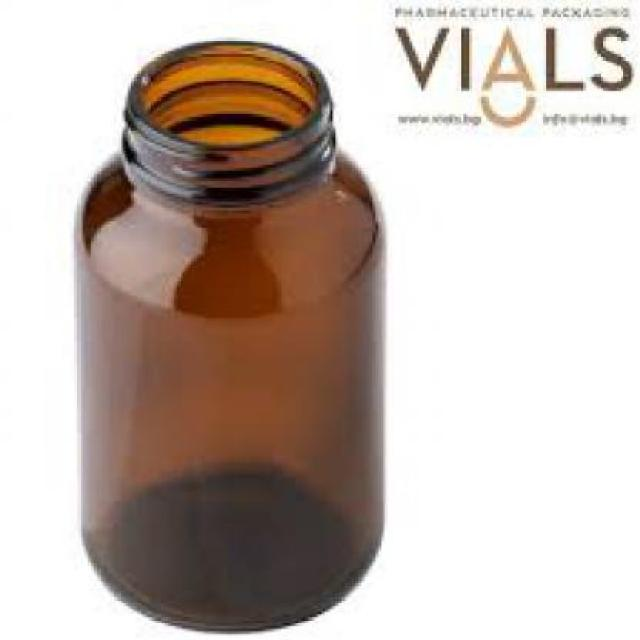kaca: (74, 37, 381, 631)
